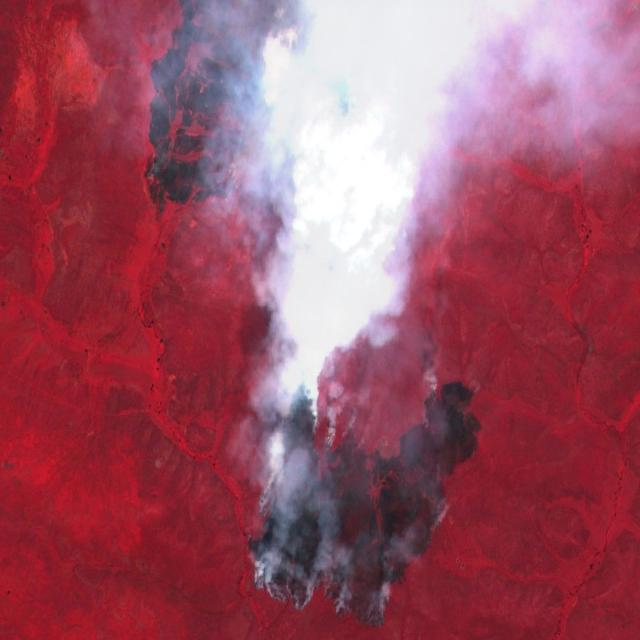fire: (238, 349, 485, 631), (139, 128, 262, 218)
